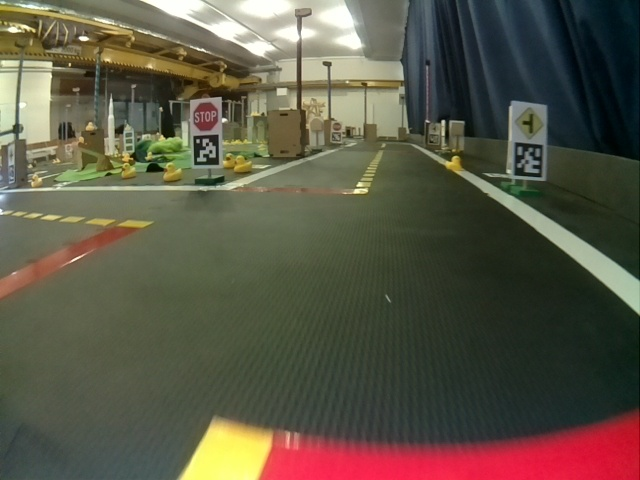Duckie: (235, 155, 252, 172), (445, 155, 462, 171), (164, 164, 180, 180), (223, 153, 234, 168), (122, 164, 135, 176), (84, 122, 94, 132), (30, 174, 39, 182)
Intersection sign: (514, 105, 546, 137)
QR code: (515, 143, 544, 176), (192, 135, 219, 165), (332, 132, 342, 141)
Stop sign: (192, 101, 218, 132), (332, 122, 342, 131)
